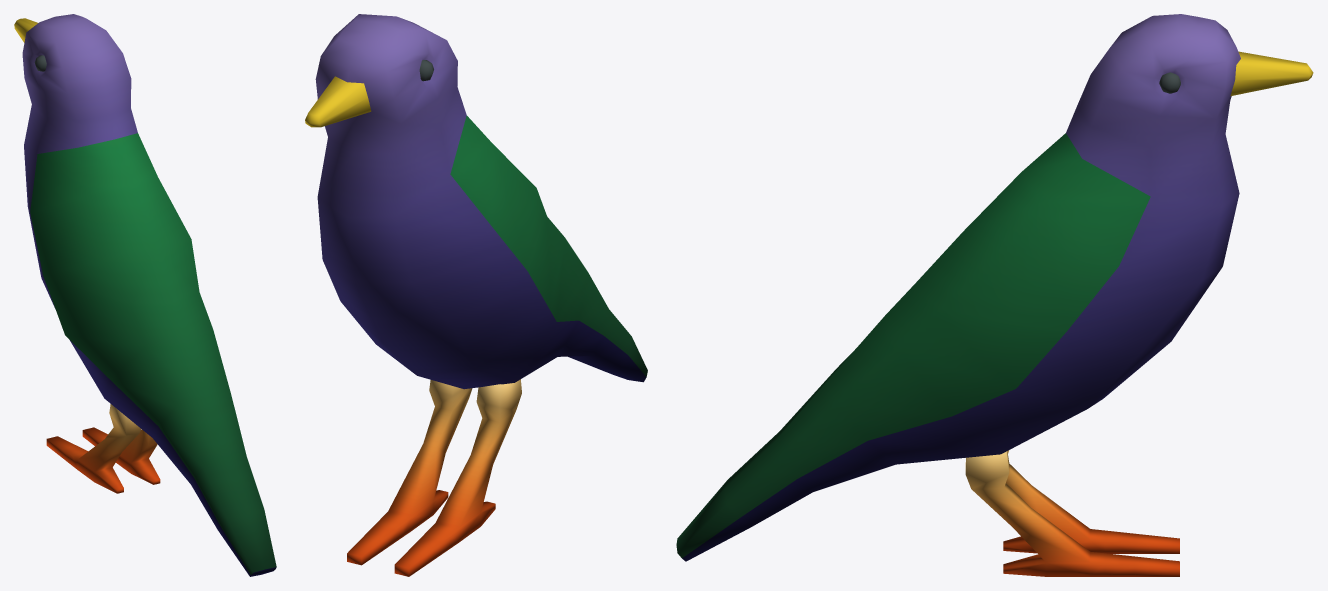
The model's file is Eastern Starling.fbx.
The picture shows the model from 3 angles, left to right: view 1: azimuth 30°, elevation 25°; view 2: azimuth 150°, elevation 25°; view 3: azimuth 270°, elevation 25°; orthographic projection. The views are drawn at different scales.
Parts seen in each view (by area): view 1: Cube.006, Cube.007; view 2: Cube.006, Cube.007, Cube.008; view 3: Cube.006, Cube.007, Cube.008.
Part boxes in pixels (left/top/right/bottom): Cube.006: left=22, top=14, right=276, bottom=576; Cube.007: left=46, top=404, right=160, bottom=493; Cube.006: left=315, top=14, right=647, bottom=389; Cube.007: left=347, top=379, right=521, bottom=576; Cube.008: left=305, top=76, right=371, bottom=127; Cube.006: left=676, top=14, right=1240, bottom=561; Cube.007: left=965, top=450, right=1179, bottom=576; Cube.008: left=1230, top=51, right=1313, bottom=96.
Size of the model in its own units: 10.22 by 28.88 by 30.93.
